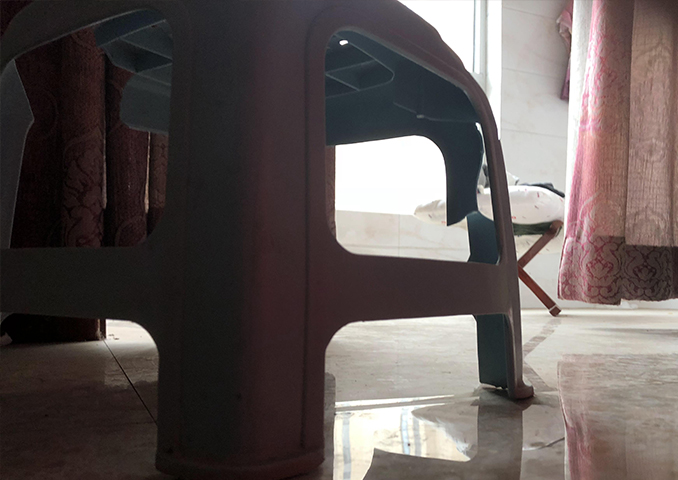curtain: (555, 1, 678, 309)
stool: (1, 1, 535, 477), (514, 219, 566, 319)
